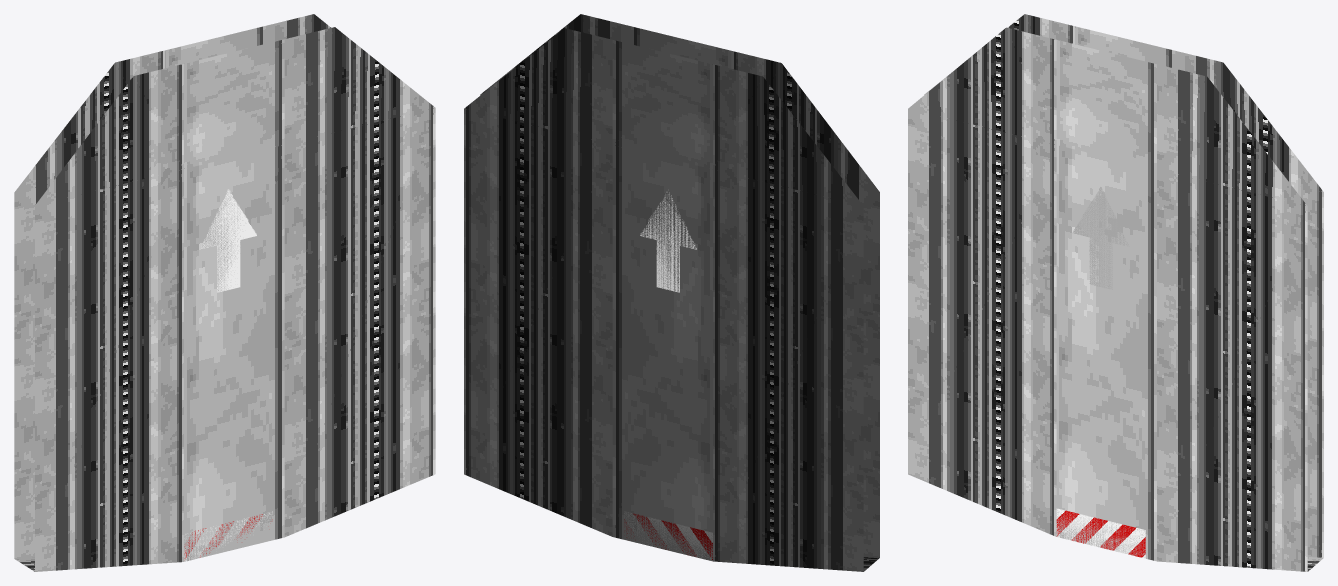
Rendered from PdamtundoorZ.obj.
3 renders of one model, left to right at view 1: azimuth 30°, elevation 25°; view 2: azimuth 150°, elevation 25°; view 3: azimuth 330°, elevation 25°, orthographic.
Bounding box in the file's own units: 176 × 208 × 14.
4 materials, 4 textured.
